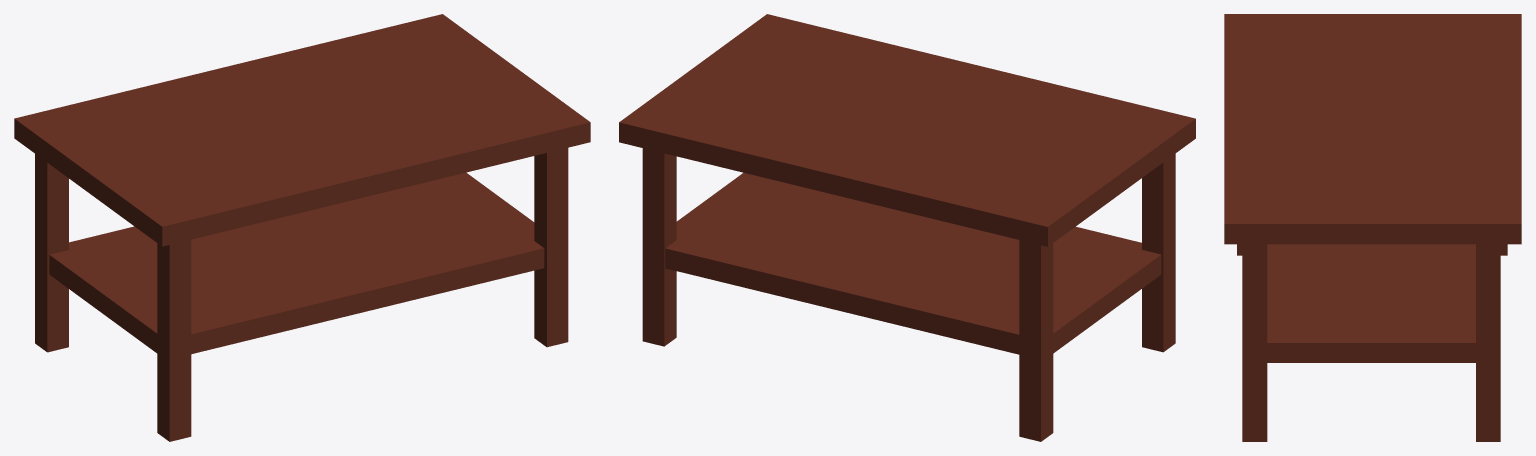
The model's file is coffeetable.fbx.
3 renders of one model, left to right at view 1: azimuth 30°, elevation 25°; view 2: azimuth 150°, elevation 25°; view 3: azimuth 270°, elevation 25°, orthographic.
Parts seen in each view (by area): view 1: Coffeetable; view 2: Coffeetable; view 3: Coffeetable.
Part boxes in pixels (x1,y1,x2,y2): Coffeetable: (14,14,590,441); Coffeetable: (619,14,1195,441); Coffeetable: (1224,14,1521,441).
Bounding box in the file's own units: 14.53 × 7.23 × 8.69.
